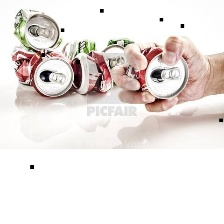can: (123, 44, 191, 103), (6, 42, 75, 99), (9, 5, 63, 50), (68, 50, 113, 95), (101, 34, 143, 77), (58, 36, 100, 62)
